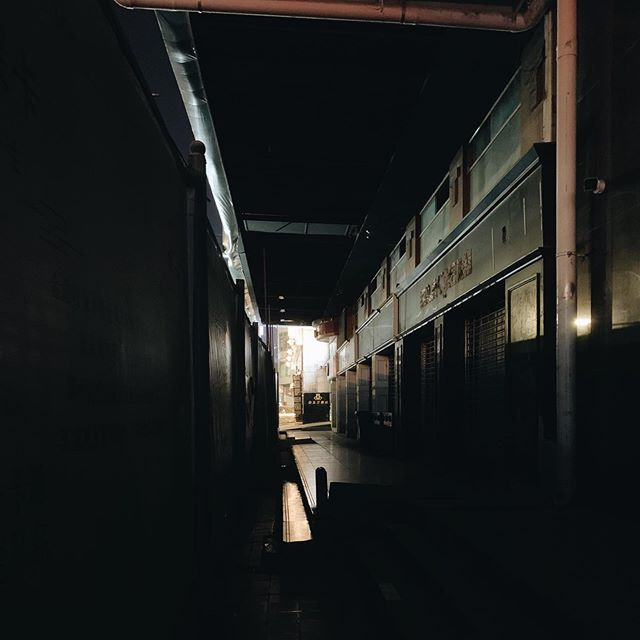building: (337, 82, 640, 640), (1, 1, 250, 640)
